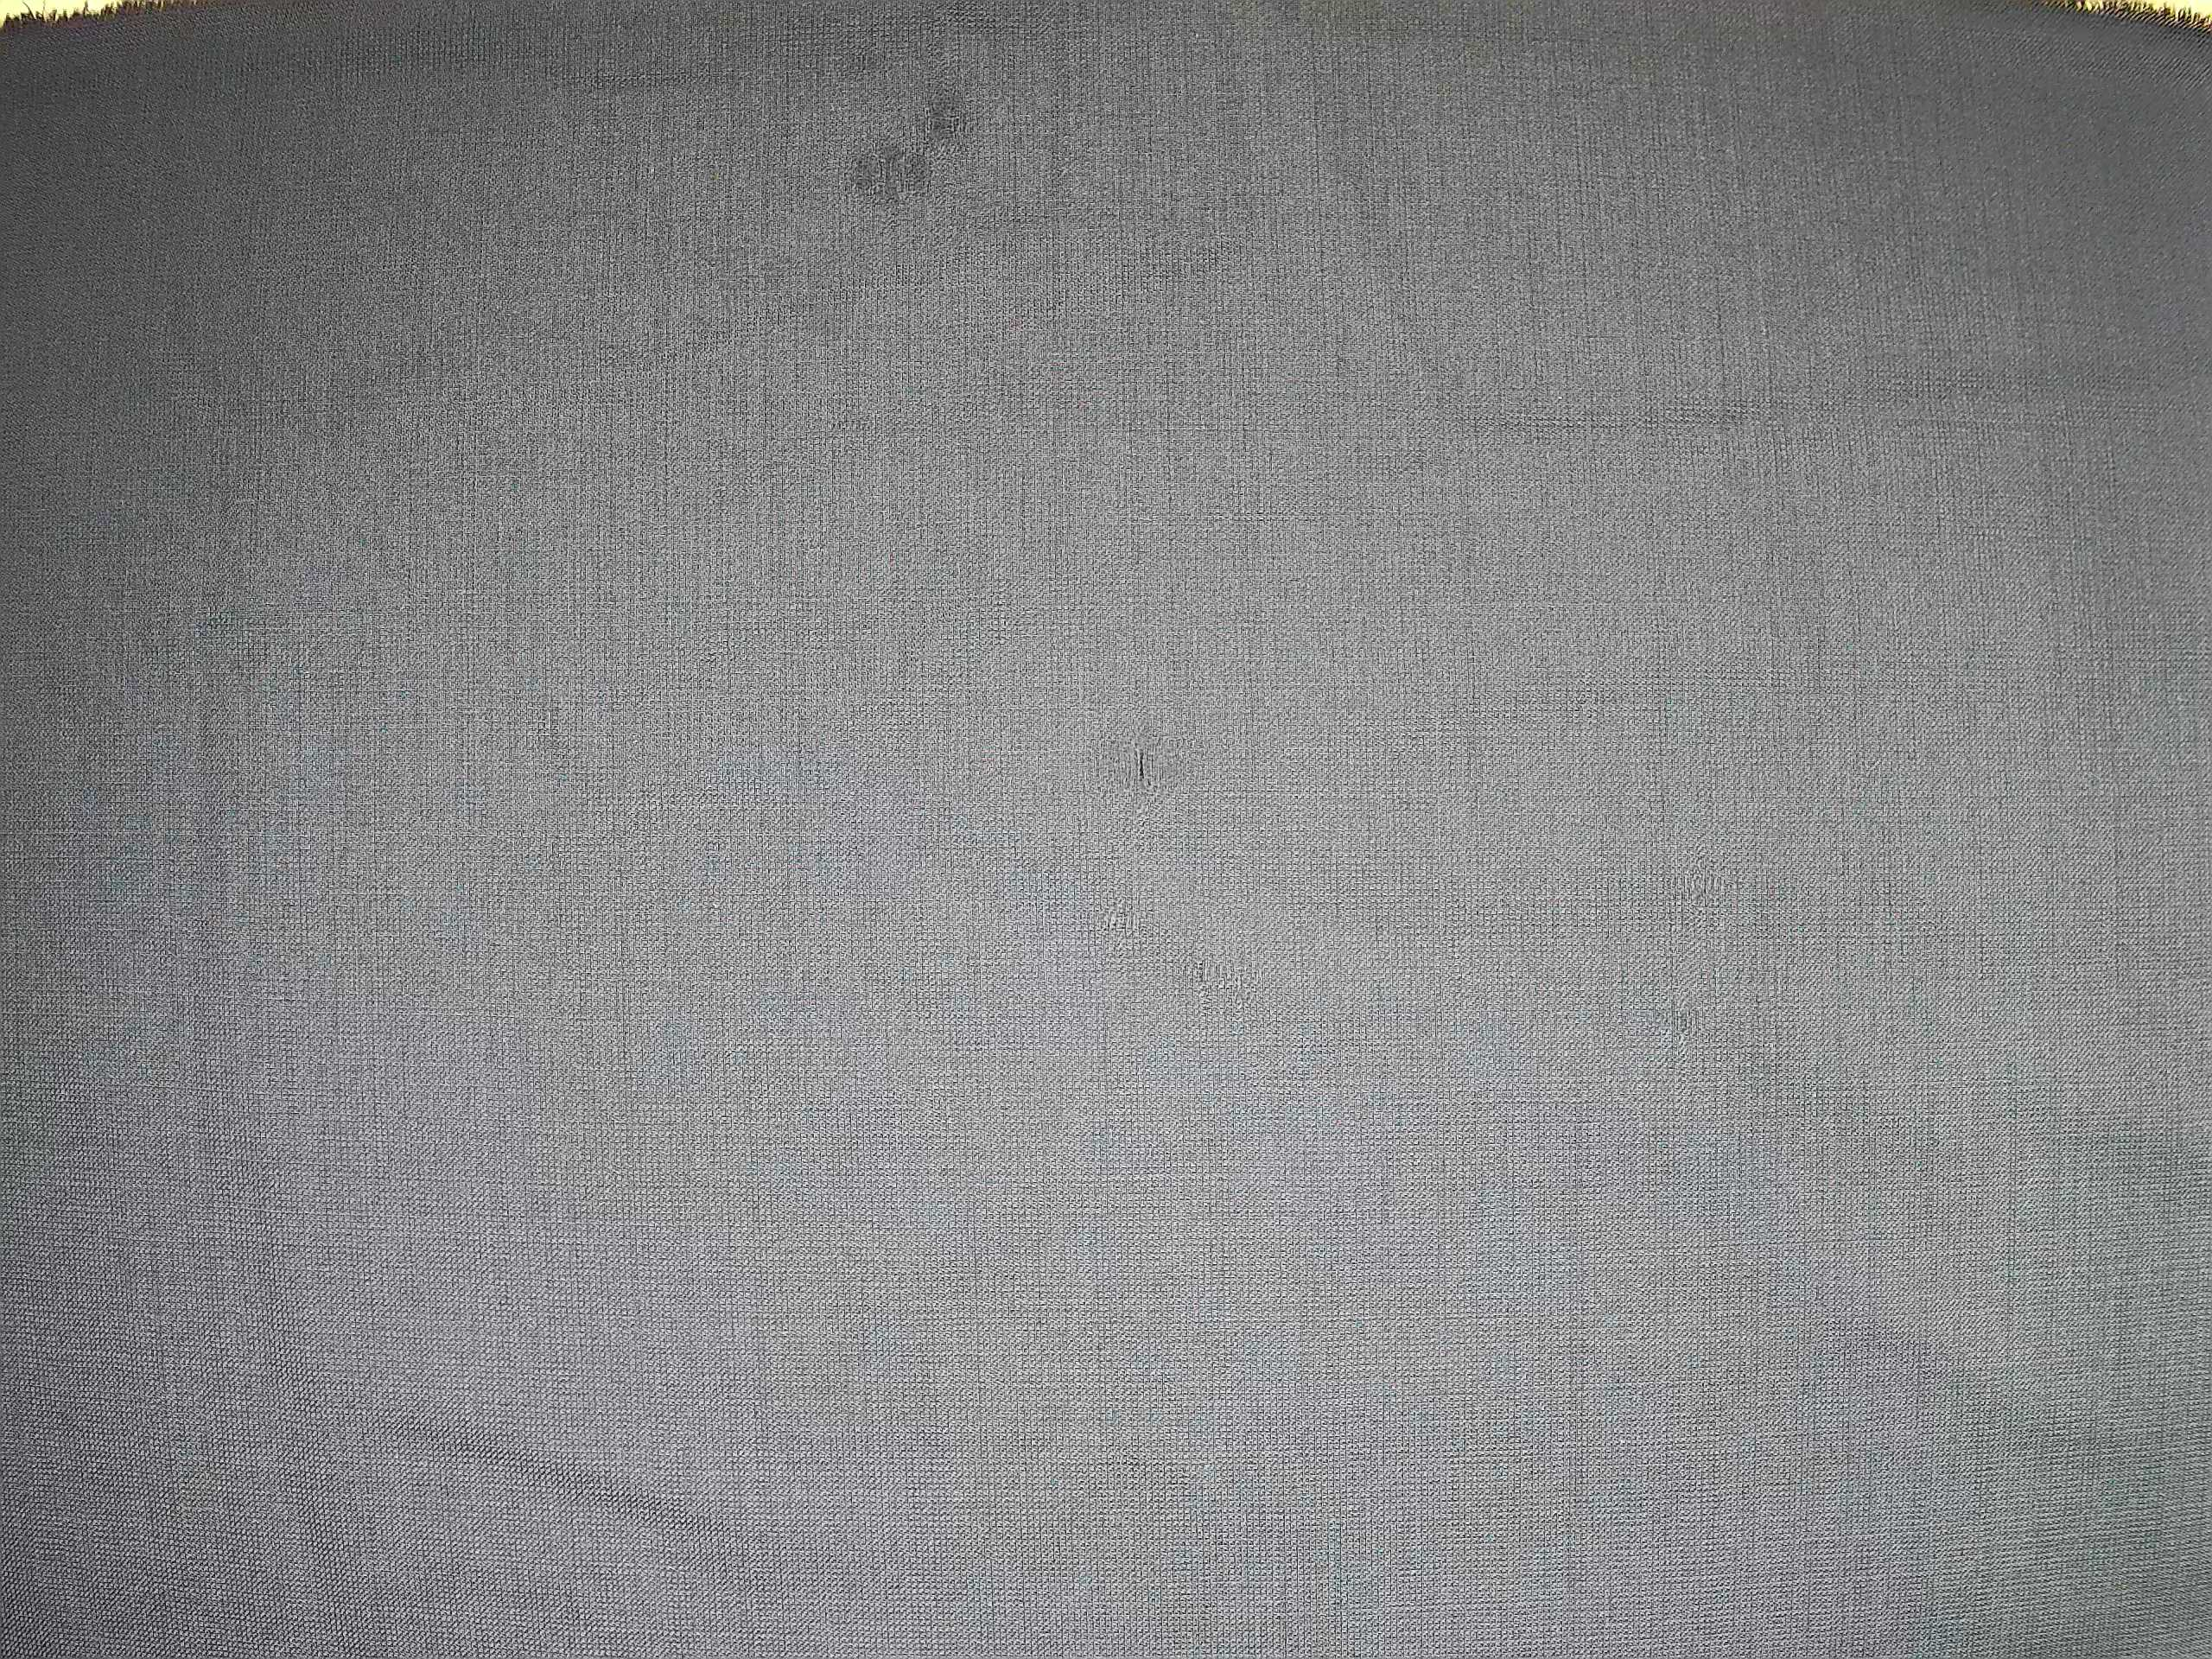rubbing-hole: (838, 75, 996, 221), (1087, 721, 1197, 810)
